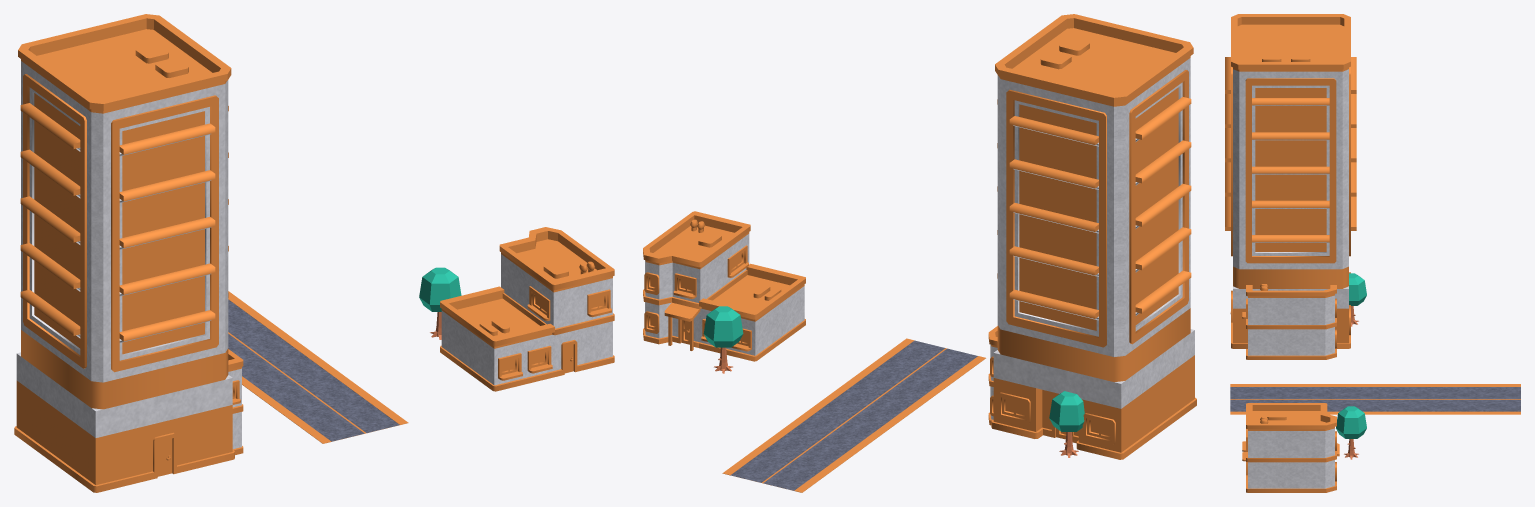
File: Street-5.obj
3 renders of one model, left to right at view 1: azimuth 30°, elevation 25°; view 2: azimuth 150°, elevation 25°; view 3: azimuth 270°, elevation 25°, orthographic. The views are drawn at different scales.
Parts seen in each view (by area): view 1: surface3, surface2, surface5, surface4, surface6, surface15; view 2: surface3, surface2, surface5, surface4, surface6, surface15; view 3: surface3, surface2, surface5, surface6, surface4, surface15.
Boxes of the visible parts, x1,y1,x2,y2 form: surface3: (14, 14, 614, 492); surface2: (16, 61, 612, 448); surface5: (228, 308, 390, 439); surface4: (228, 291, 408, 443); surface6: (228, 299, 399, 441); surface15: (419, 267, 461, 311); surface3: (643, 14, 1196, 459); surface2: (645, 58, 1194, 419); surface5: (739, 342, 969, 488); surface4: (722, 338, 985, 492); surface6: (731, 340, 977, 490); surface15: (703, 306, 1084, 431); surface3: (1225, 14, 1356, 492); surface2: (1233, 69, 1348, 488); surface5: (1230, 390, 1520, 408); surface6: (1230, 387, 1520, 411); surface4: (1230, 384, 1520, 414); surface15: (1336, 273, 1366, 438).
Bounding box in the file's own units: 37.7 × 26.32 × 24.44.
